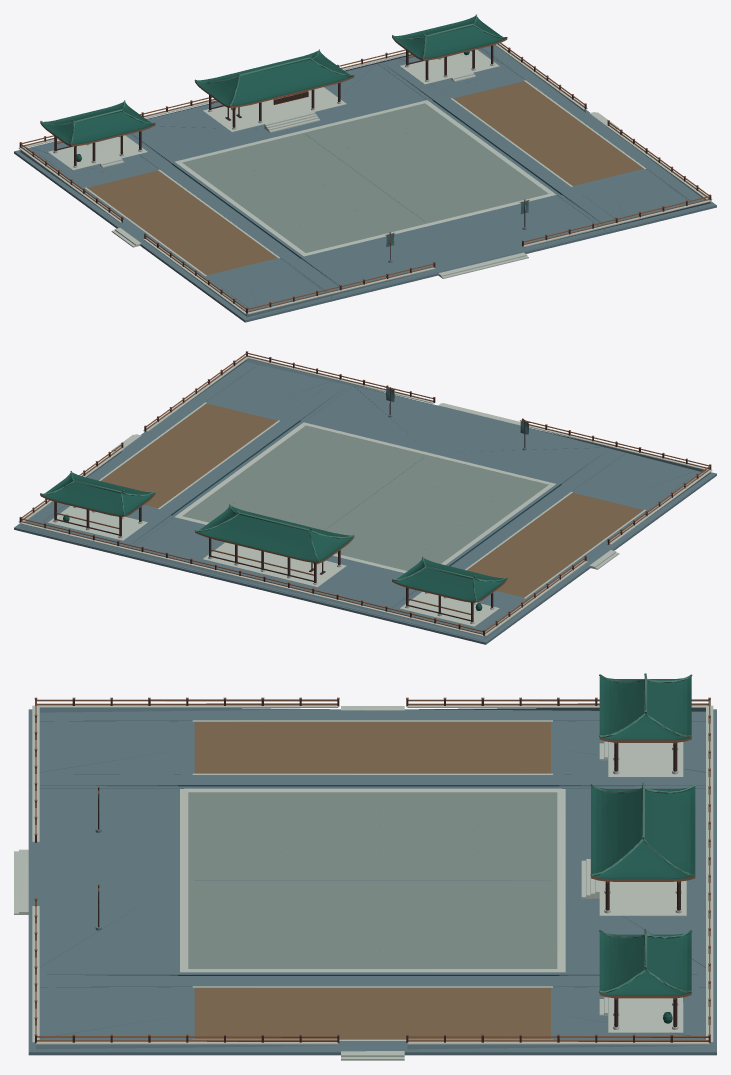
The model's file is martial_training_ground_lod.glb.
3 renders of one model, top to bottom at view 1: azimuth 30°, elevation 25°; view 2: azimuth 150°, elevation 25°; view 3: azimuth 270°, elevation 25°, orthographic. The views are drawn at different scales.
Visible parts, largest first — view 1: Training_CourtPaving.001, Training_Paving.001, martial_training_ground_lod_Stone, Training_PackedEarth.001, martial_training_ground_lod_Coping, martial_training_ground_lod_Jade, martial_training_ground_lod_Cedar, martial_training_ground_lod_Timber, martial_training_ground_lod_TileLight, Training_Joint.001; view 2: Training_CourtPaving.001, Training_Paving.001, martial_training_ground_lod_Stone, Training_PackedEarth.001, martial_training_ground_lod_Coping, martial_training_ground_lod_Jade, martial_training_ground_lod_Cedar, martial_training_ground_lod_Timber, martial_training_ground_lod_TileLight, Training_Joint.001; view 3: Training_CourtPaving.001, Training_Paving.001, martial_training_ground_lod_Stone, Training_PackedEarth.001, martial_training_ground_lod_Coping, martial_training_ground_lod_Jade, martial_training_ground_lod_Cedar, martial_training_ground_lod_TileLight, martial_training_ground_lod_Timber, Training_Joint.001.
Part boxes in pixels (bbox=[...]): Training_CourtPaving.001: bbox=[182, 103, 548, 252]; Training_Paving.001: bbox=[17, 45, 713, 318]; martial_training_ground_lod_Stone: bbox=[14, 48, 716, 322]; Training_PackedEarth.001: bbox=[87, 81, 643, 275]; martial_training_ground_lod_Coping: bbox=[18, 43, 712, 314]; martial_training_ground_lod_Jade: bbox=[41, 16, 506, 161]; martial_training_ground_lod_Cedar: bbox=[19, 36, 711, 312]; martial_training_ground_lod_Timber: bbox=[19, 45, 711, 313]; martial_training_ground_lod_TileLight: bbox=[40, 14, 507, 144]; Training_Joint.001: bbox=[172, 100, 562, 258]; Training_CourtPaving.001: bbox=[182, 425, 548, 570]; Training_Paving.001: bbox=[17, 361, 713, 641]; martial_training_ground_lod_Stone: bbox=[14, 359, 716, 644]; Training_PackedEarth.001: bbox=[101, 403, 643, 597]; martial_training_ground_lod_Coping: bbox=[18, 356, 712, 636]; martial_training_ground_lod_Jade: bbox=[41, 472, 506, 610]; martial_training_ground_lod_Cedar: bbox=[19, 351, 711, 634]; martial_training_ground_lod_Timber: bbox=[19, 352, 711, 635]; martial_training_ground_lod_TileLight: bbox=[40, 471, 507, 600]; Training_Joint.001: bbox=[171, 420, 561, 566]; Training_CourtPaving.001: bbox=[188, 792, 557, 968]; Training_Paving.001: bbox=[31, 710, 713, 1050]; martial_training_ground_lod_Stone: bbox=[28, 708, 716, 1055]; Training_PackedEarth.001: bbox=[194, 721, 550, 1039]; martial_training_ground_lod_Coping: bbox=[14, 705, 713, 1060]; martial_training_ground_lod_Jade: bbox=[591, 676, 695, 1023]; martial_training_ground_lod_Cedar: bbox=[34, 697, 710, 1041]; martial_training_ground_lod_TileLight: bbox=[590, 673, 695, 992]; martial_training_ground_lod_Timber: bbox=[35, 699, 710, 1043]; Training_Joint.001: bbox=[178, 785, 559, 975].
Bounding box in the file's own units: 67.99 × 6.73 × 57.2.
